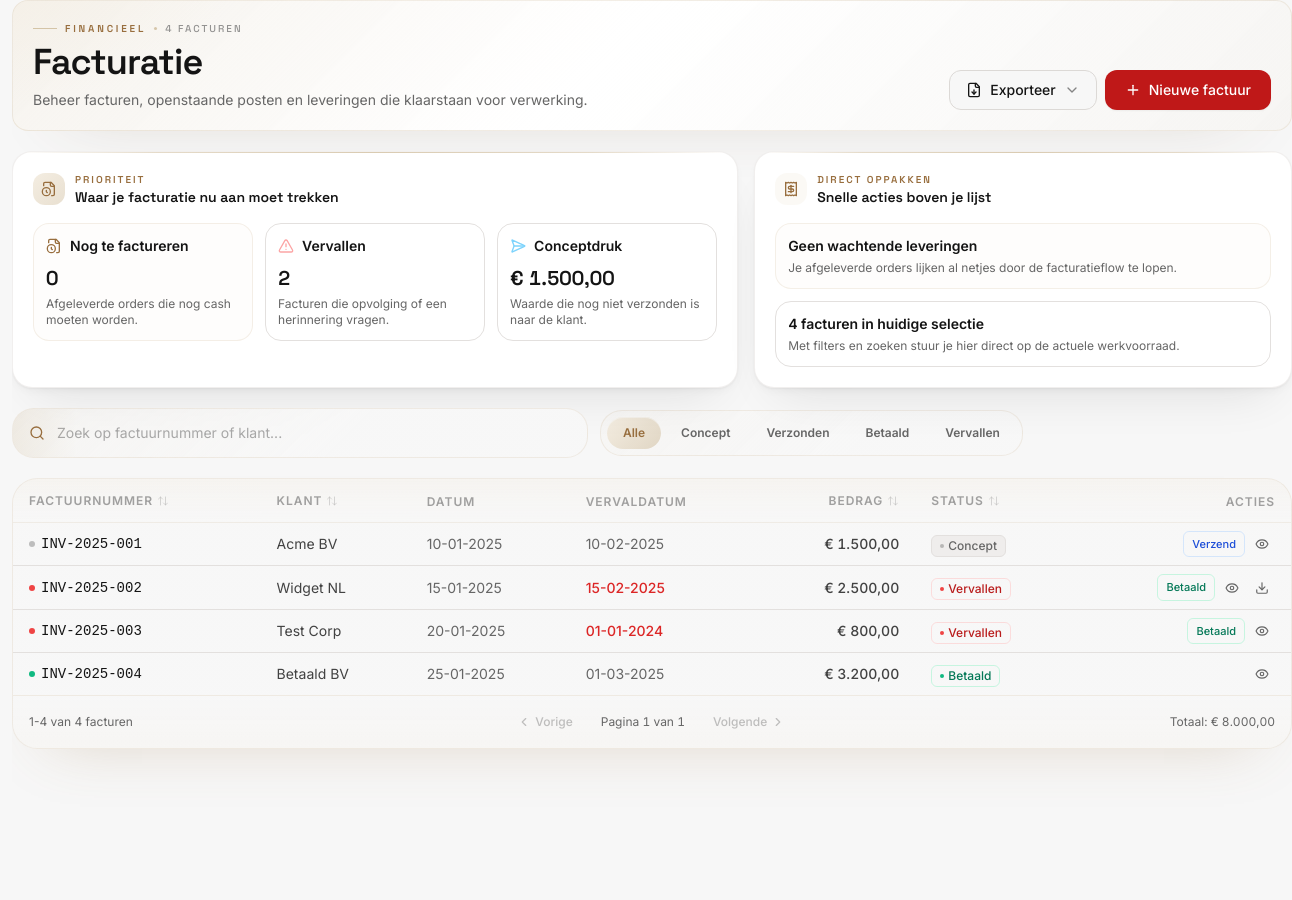
Facturatie › opens export dropdown and shows CSV option
Click the button "Exporteer" at {"x": 1023, "y": 90}, box [949, 70, 1097, 110]
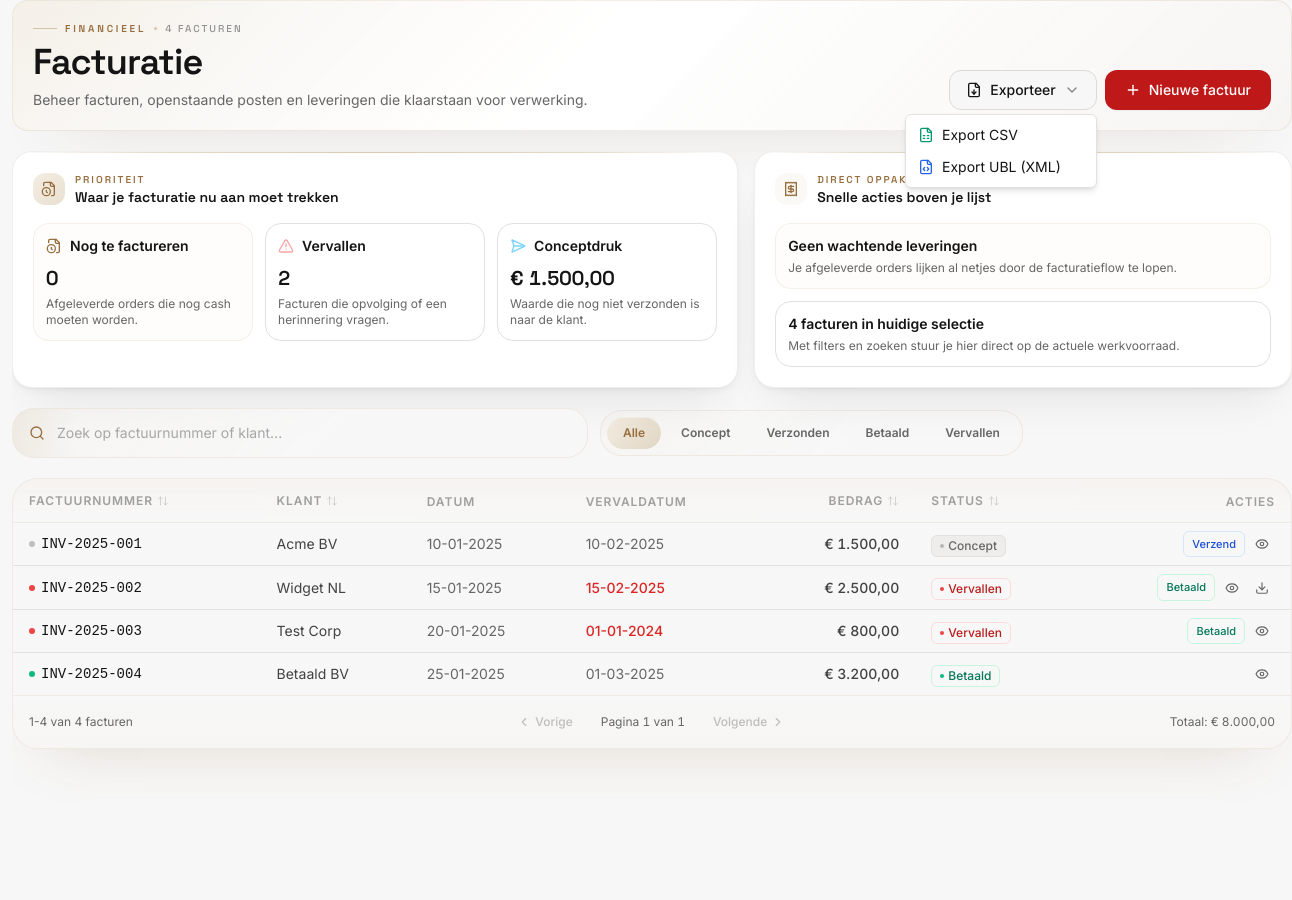
Check: the menu item "Export CSV" is shown, box [918, 126, 1018, 143]
